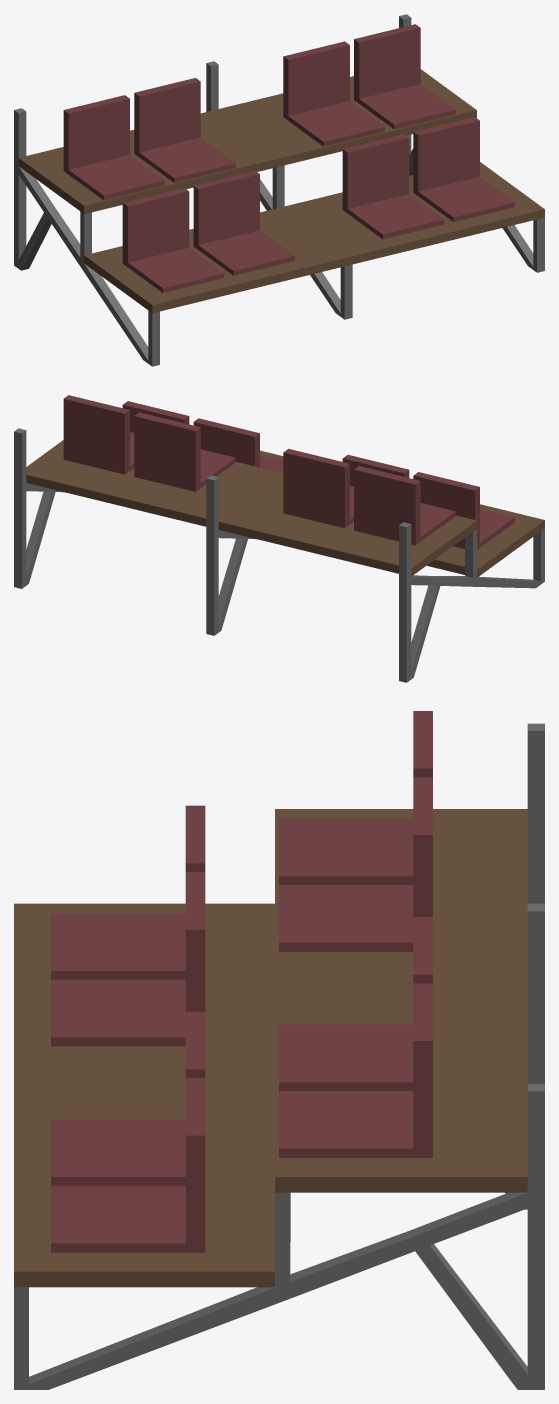
File: Tribune.fbx
The picture shows the model from 3 angles, top to bottom: view 1: azimuth 30°, elevation 25°; view 2: azimuth 150°, elevation 25°; view 3: azimuth 270°, elevation 25°; orthographic projection. The views are drawn at different scales.
Visible parts, largest first — view 1: PlatformB, PlatformT, Seat6, Seat8, Seat2, Seat1, Seat3, Seat4, Seat5, Seat7, BottomL, MiddlePart (+1 smaller); view 2: PlatformT, BottomL, Seat2, Seat4, Seat1, Seat3, MiddlePart, BottomR, Seat8, PlatformB, Seat6, Seat5 (+1 smaller); view 3: PlatformB, PlatformT, BottomR, Seat5, Seat1, Seat7, Seat3, Seat6, Seat8, Seat2, Seat4, MiddlePart (+1 smaller).
Boxes of the visible parts, x1=… form: PlatformB: x1=84, y1=162, x2=544, y2=313; PlatformT: x1=18, y1=69, x2=476, y2=213; Seat6: x1=342, y1=134, x2=444, y2=239; Seat8: x1=122, y1=188, x2=224, y2=292; Seat2: x1=283, y1=41, x2=384, y2=146; Seat1: x1=354, y1=24, x2=455, y2=129; Seat3: x1=134, y1=78, x2=235, y2=182; Seat4: x1=63, y1=95, x2=164, y2=200; Seat5: x1=413, y1=117, x2=514, y2=221; Seat7: x1=193, y1=170, x2=294, y2=275; BottomL: x1=14, y1=108, x2=159, y2=366; MiddlePart: x1=206, y1=61, x2=352, y2=319; PlatformT: x1=26, y1=440, x2=476, y2=576; BottomL: x1=399, y1=522, x2=544, y2=682; Seat2: x1=134, y1=412, x2=235, y2=491; Seat4: x1=354, y1=466, x2=455, y2=545; Seat1: x1=63, y1=395, x2=134, y2=474; Seat3: x1=283, y1=448, x2=353, y2=528; MiddlePart: x1=206, y1=475, x2=256, y2=635; BottomR: x1=14, y1=428, x2=63, y2=588; Seat8: x1=413, y1=472, x2=514, y2=549; PlatformB: x1=260, y1=450, x2=544, y2=577; Seat6: x1=193, y1=418, x2=283, y2=472; Seat5: x1=122, y1=401, x2=189, y2=432; PlatformB: x1=14, y1=903, x2=274, y2=1287; PlatformT: x1=275, y1=809, x2=527, y2=1192; BottomR: x1=14, y1=1084, x2=544, y2=1389; Seat5: x1=51, y1=1078, x2=205, y2=1252; Seat1: x1=279, y1=983, x2=432, y2=1157; Seat7: x1=51, y1=872, x2=205, y2=1046; Seat3: x1=279, y1=777, x2=432, y2=951; Seat6: x1=51, y1=1011, x2=205, y2=1185; Seat8: x1=51, y1=805, x2=205, y2=979; Seat2: x1=279, y1=917, x2=432, y2=1090; Seat4: x1=279, y1=711, x2=432, y2=884; MiddlePart: x1=505, y1=903, x2=544, y2=1209.
Size of the model in its own units: 5 by 2.09 by 3.05.
